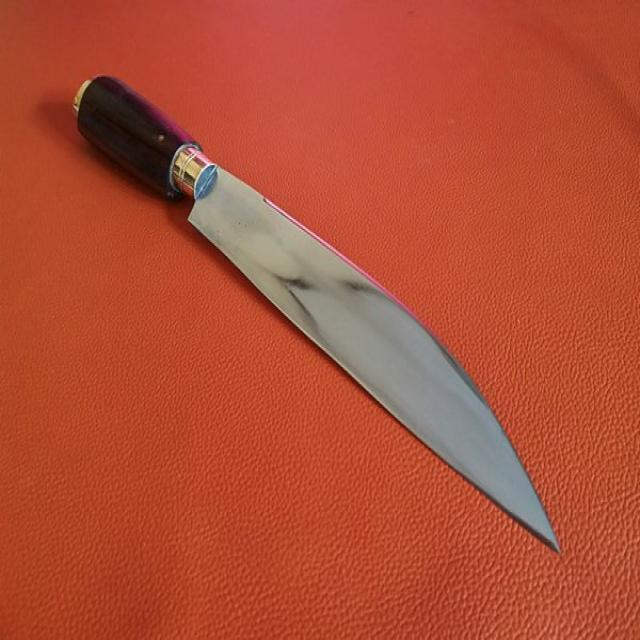Pisau: (68, 59, 565, 558)
